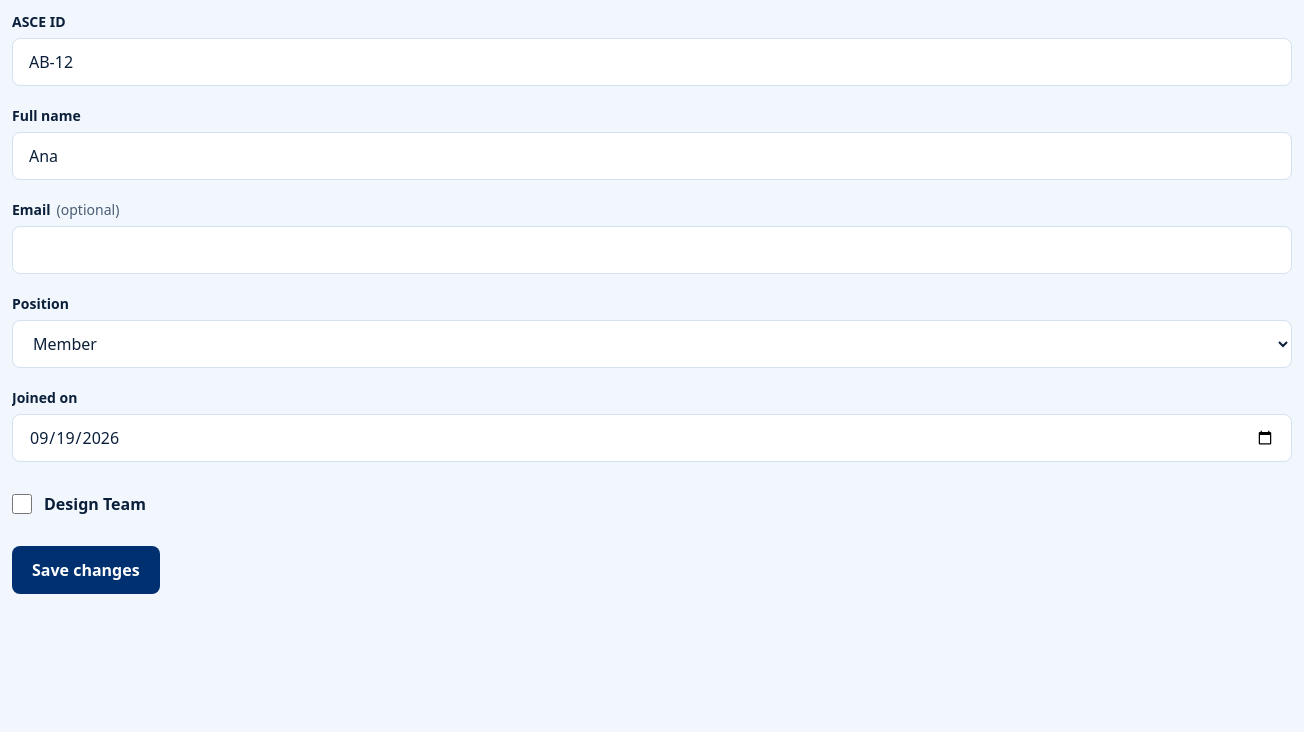
Test: MemberForm › edición correcta: confirma con 'Changes saved.' (y no avisa de creación)
Click the button "Save changes": (86, 570) [12,546,160,594]
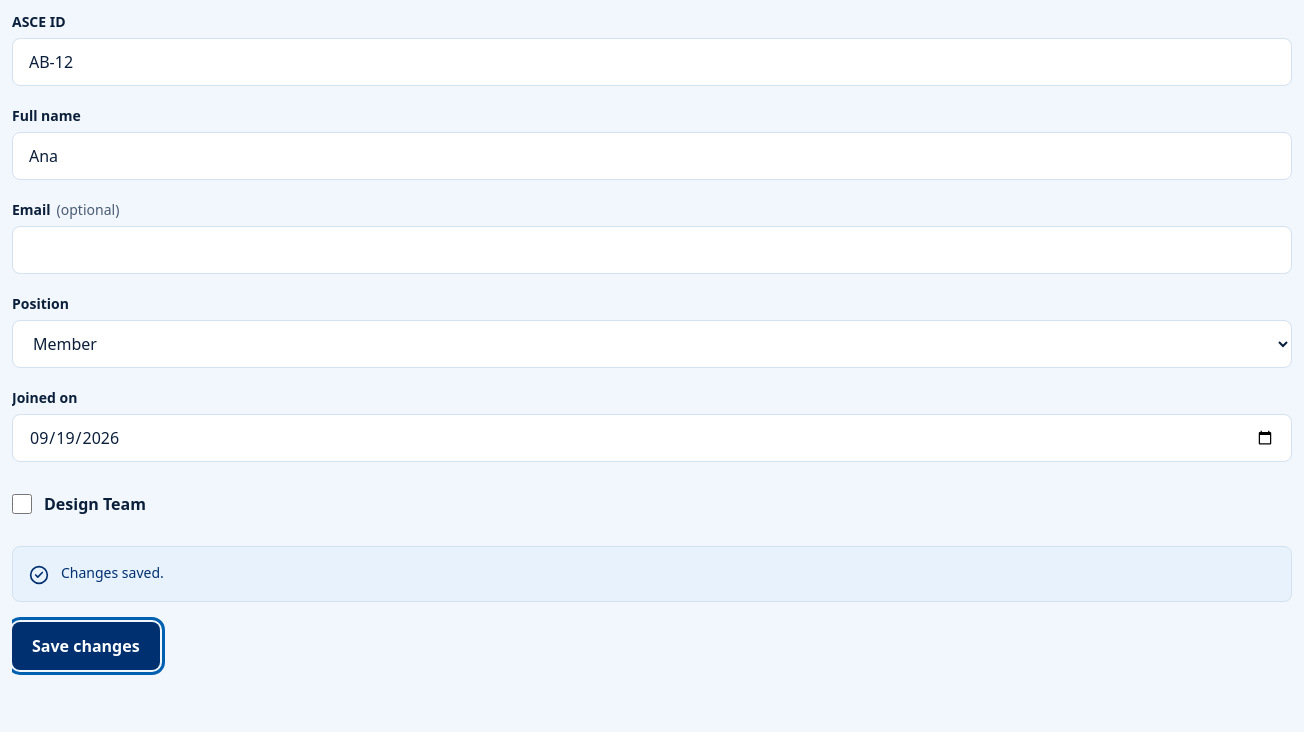
expect the text "Changes saved." is shown: met, box [61,563,164,583]
